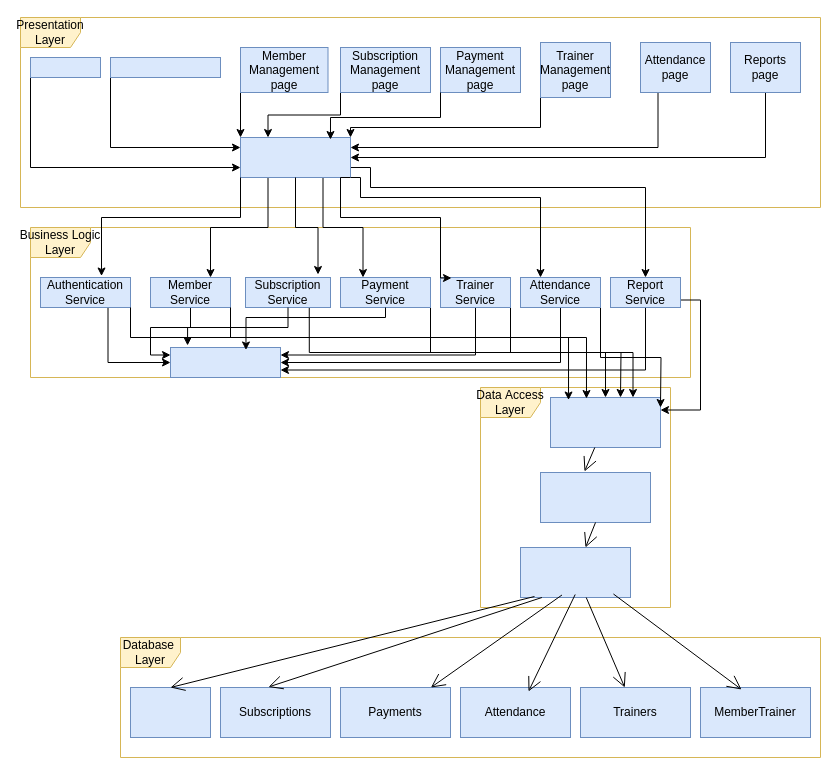
Image size: 838x775. Some labels were removed from this diagram. The centre of each missing label's shape, as x and y in pixels:
Angular Web App: (x=295, y=157)
AppDbContext: (x=575, y=572)
Dashboard page: (x=165, y=67)
Entity Framework Core: (x=595, y=497)
Login page: (x=65, y=67)
Members: (x=170, y=712)
Repository Layer: (x=605, y=422)
ValidationModule: (x=225, y=362)
